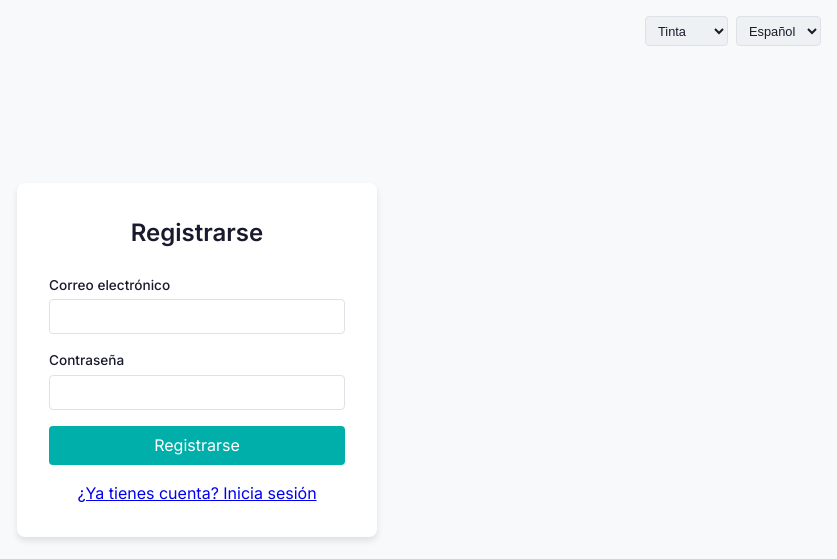
RegisterPage › shows backend message on 409 conflict
Type "user@example.com" into the field. click: (197, 317)
box: left=49, top=299, right=345, bottom=334
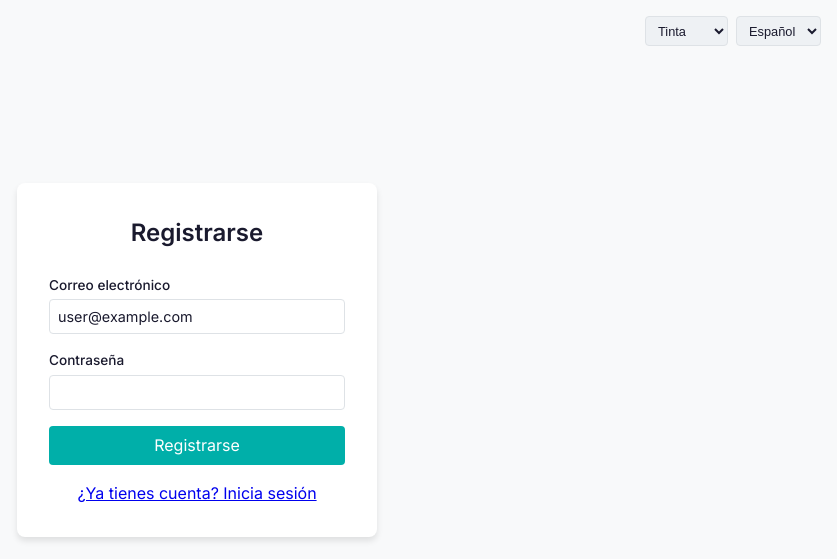
Type "secret123" into the password field. click: (197, 392)
box: left=49, top=375, right=345, bottom=410
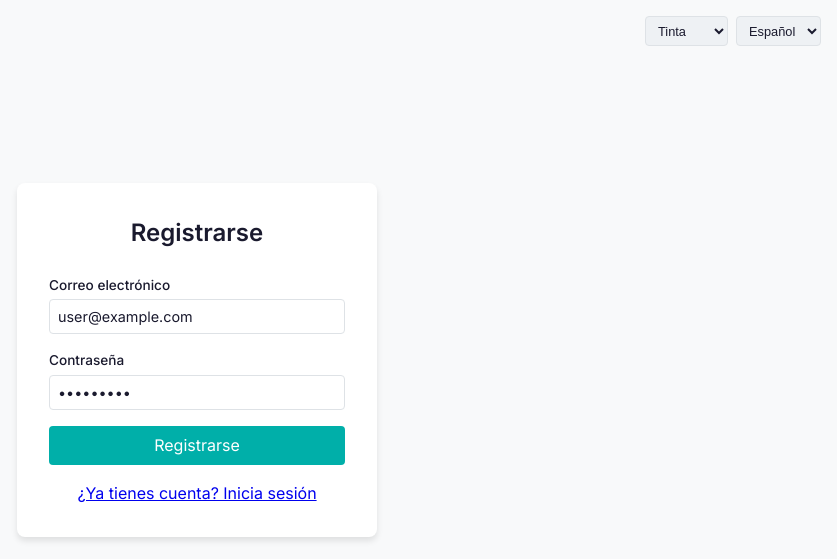
Click the button "Registrarse". click: (197, 445)
box: left=49, top=426, right=345, bottom=465
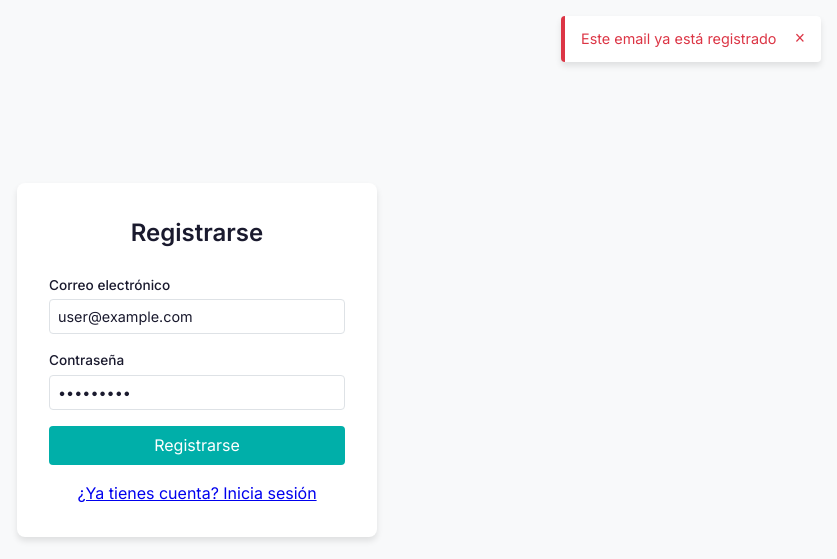
Expected: the text "Este email ya está registrado" is shown, left=581, top=28, right=783, bottom=50
